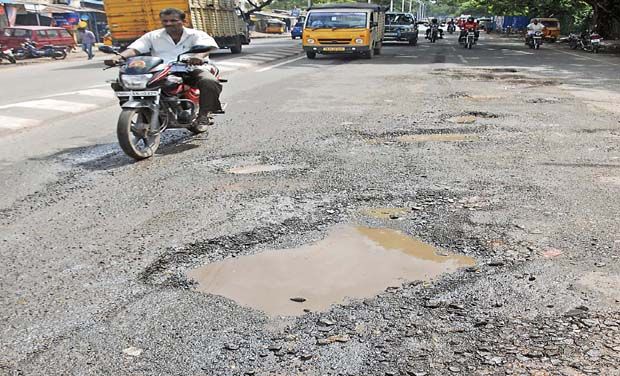pothole: (144, 190, 487, 319)
